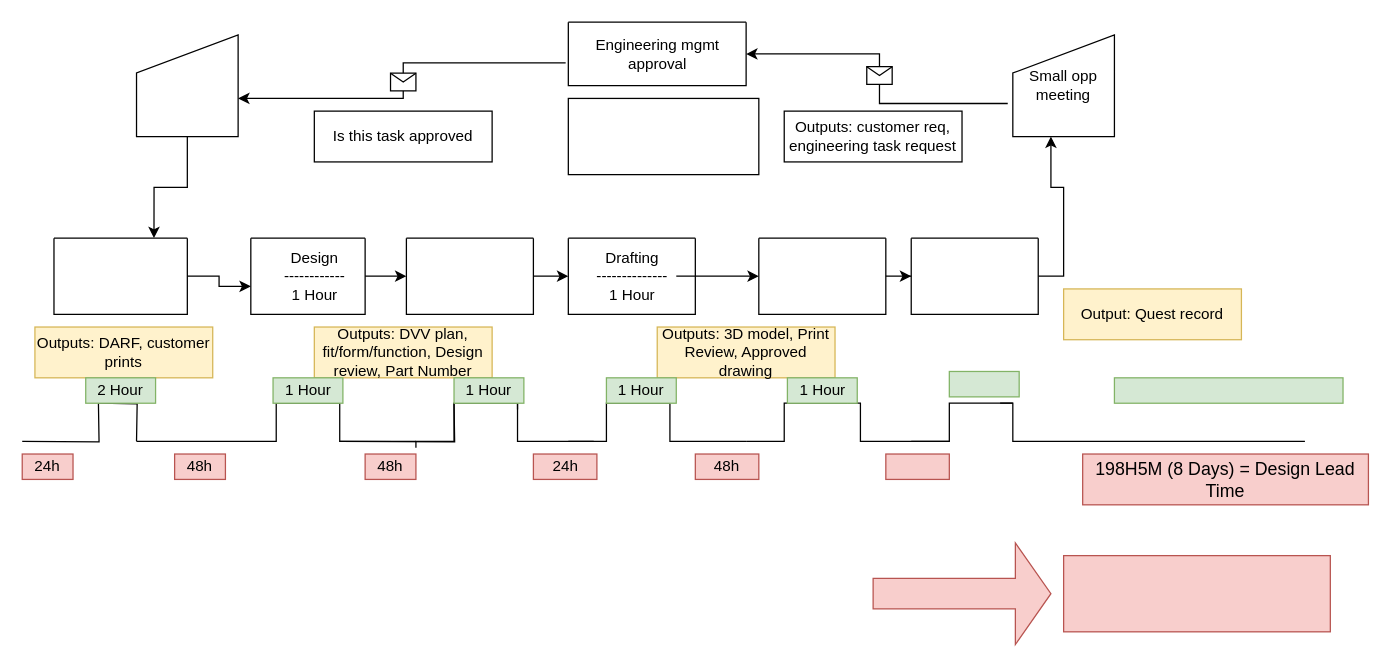
Image size: 1391x667. Some labels were removed from this diagram. Each missing label, with the centre of its shape:
0 Days: point (917, 466)
100*(6.083/198.083) = 3% efficiency: point (1196, 593)
5 Minutes: point (983, 383)
6H5M = Value Added Time: point (1228, 390)
Application engineering team: point (186, 85)
Design Review ------------ 1 Hour: point (469, 275)
Draft Review -------------- 1 Hours: point (822, 275)
Gather application Details ---------------- 2 Hours: point (120, 275)
Inputs: application context, prior work, estimated cost of development: point (663, 136)
Quest ------------ 5 Minutes: point (974, 275)
